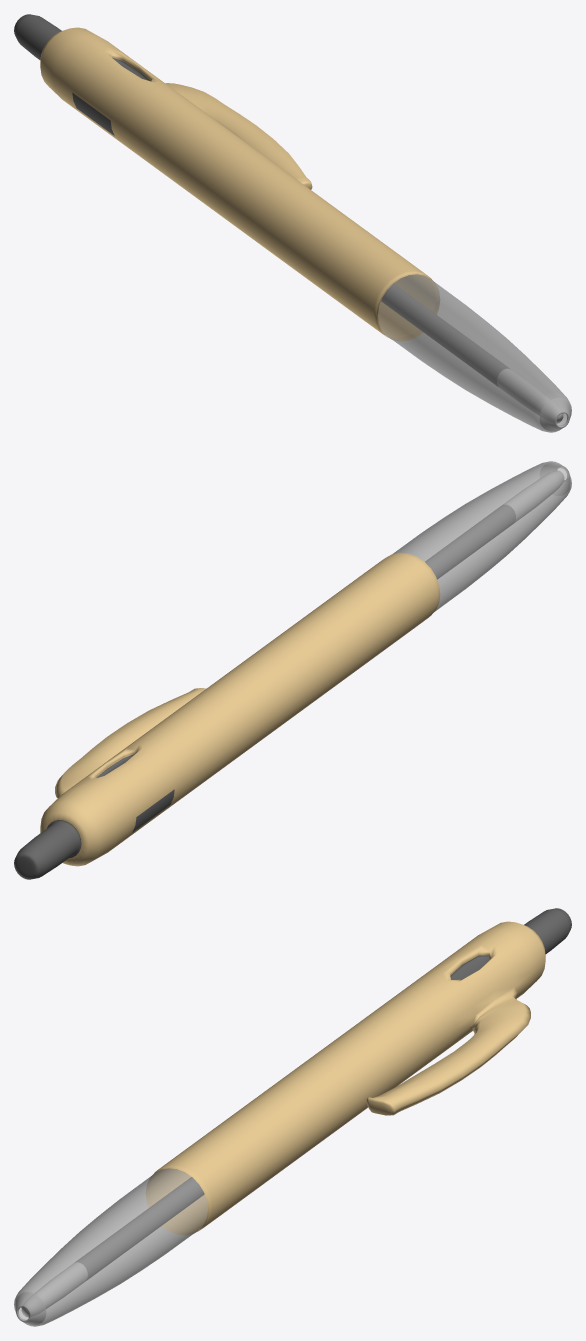
The model's file is Pen.fbx.
3 views of the same model, one above another, from view 1: azimuth 30°, elevation 25°; view 2: azimuth 150°, elevation 25°; view 3: azimuth 330°, elevation 25° (orthographic).
Parts seen in each view (by area): view 1: Pen, Pen_Inner; view 2: Pen, Pen_Inner; view 3: Pen, Pen_Inner.
Part boxes in pixels (x1,y1,x2,y2): Pen: [14, 14, 571, 432]; Pen_Inner: [381, 283, 563, 423]; Pen: [14, 461, 571, 879]; Pen_Inner: [425, 470, 564, 579]; Pen: [14, 908, 571, 1326]; Pen_Inner: [21, 1177, 204, 1317].
Size of the model in its own units: 1.66 by 0.9665 by 14.01.
